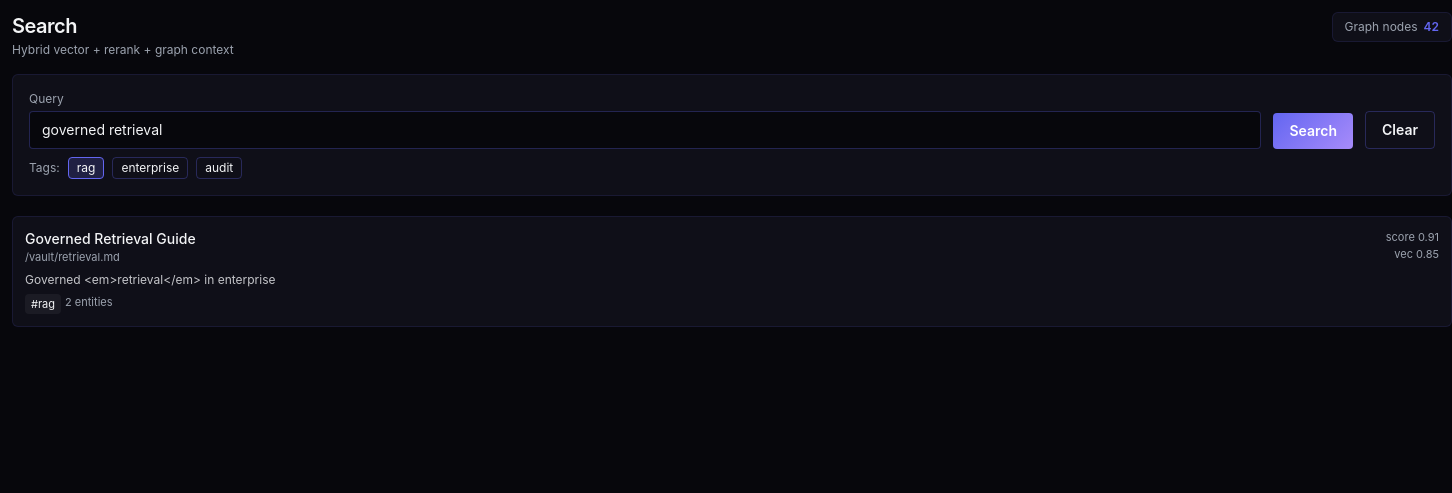
it: SearchView graph panel › renders search results and opens graph panel with entity badges grouped by type
Step 1. Click the text "Governed Retrieval Guide" → (110, 239), box [25,229,196,249]
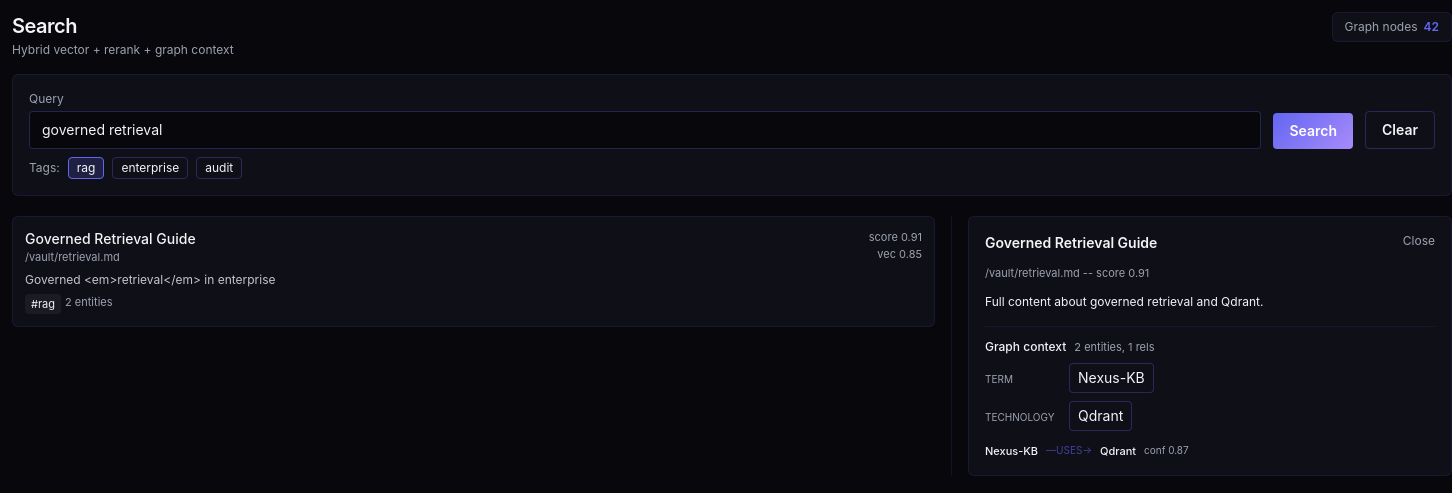
Result: the text "Graph context" is shown at [985,338,1066,354]
Result: the text "TERM" is shown at [985,373,1013,385]
Result: the text "TECHNOLOGY" is shown at [985,410,1065,425]
